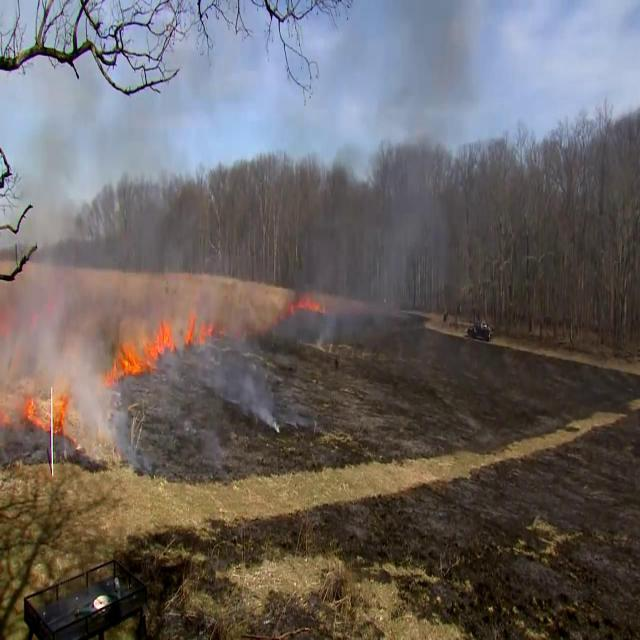Fire: (104, 320, 176, 380), (186, 315, 214, 345), (294, 290, 324, 314), (51, 391, 68, 433), (23, 400, 44, 428)
